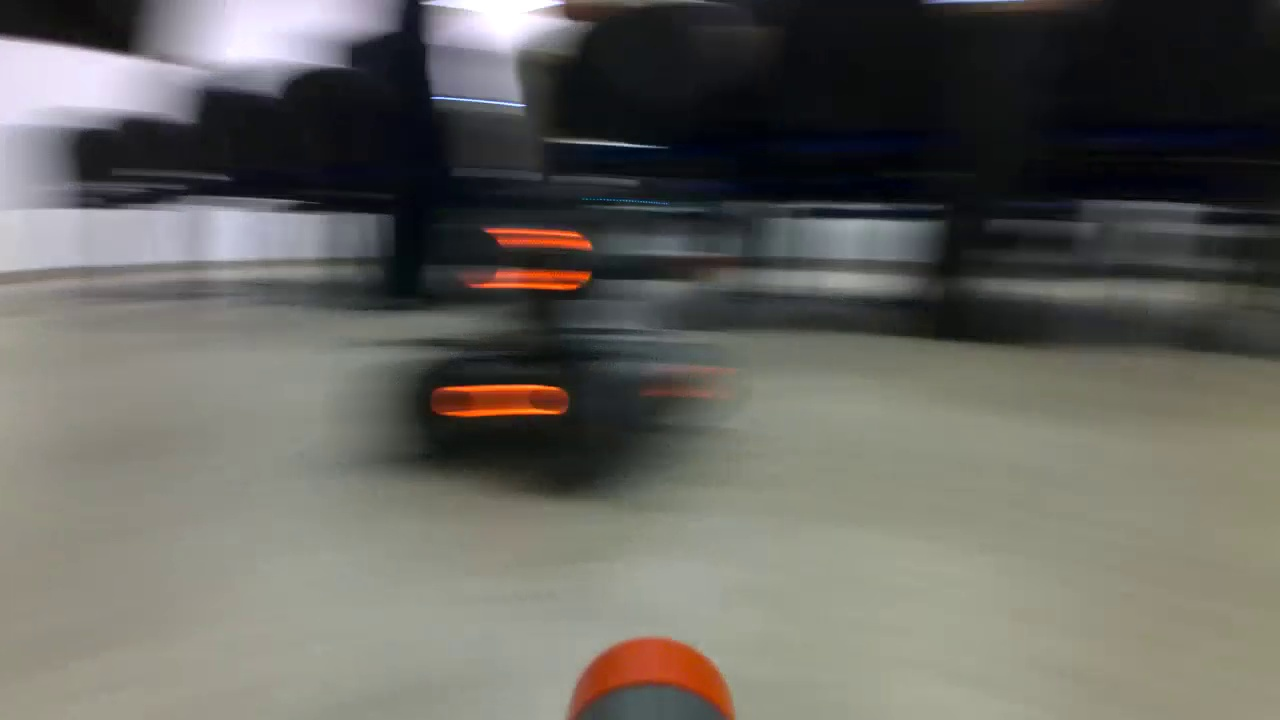robot: (400, 215, 700, 485)
